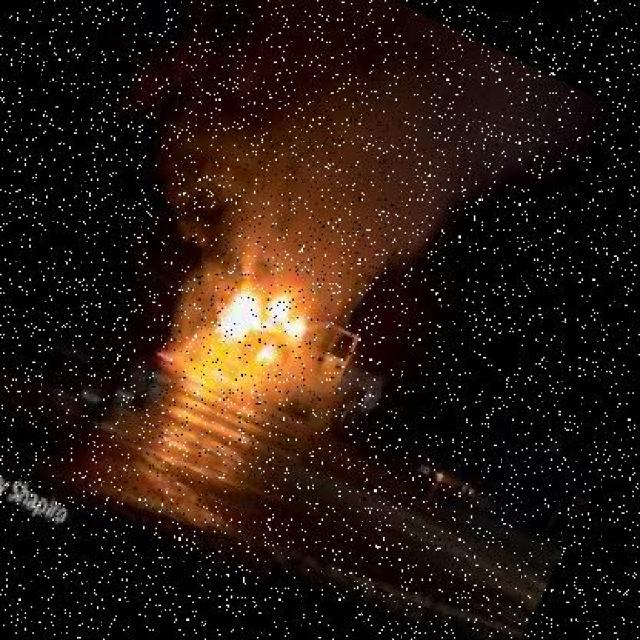fire: (180, 237, 355, 418)
